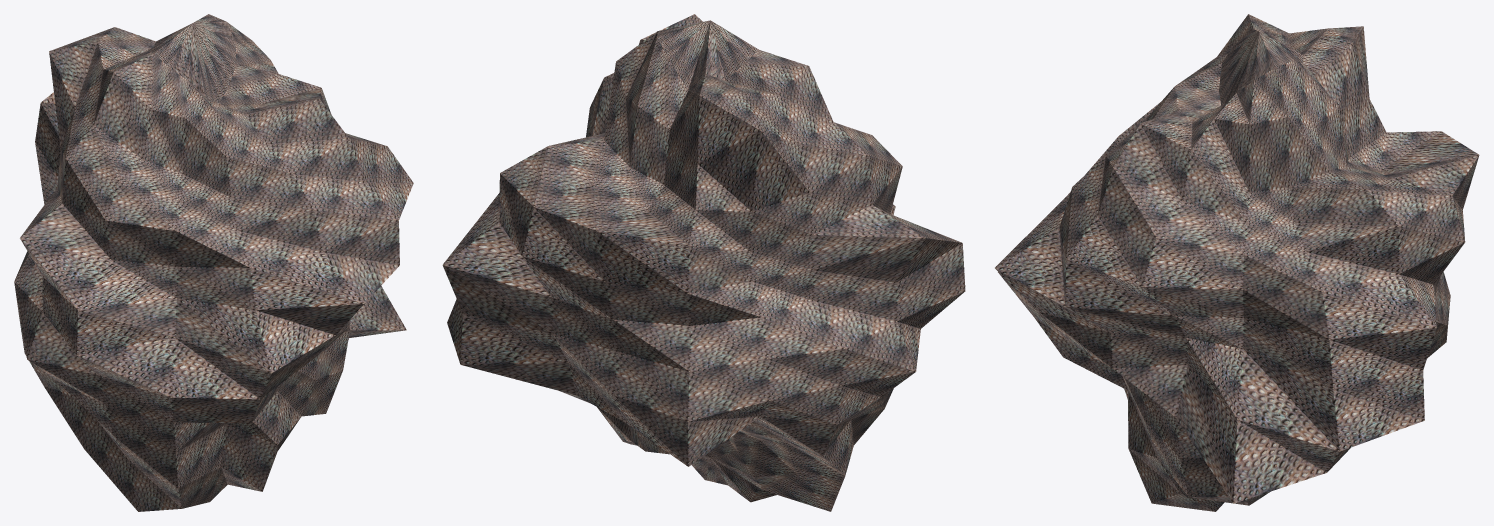
File: coral004a.obj
3 renders of one model, left to right at view 1: azimuth 30°, elevation 25°; view 2: azimuth 150°, elevation 25°; view 3: azimuth 270°, elevation 25°, orthographic. The views are drawn at different scales.
Parts seen in each view (by area): view 1: Landscape; view 2: Landscape; view 3: Landscape.
Boxes of the visible parts, left/top/right/bottom form: Landscape: left=14, top=14, right=413, bottom=511; Landscape: left=442, top=14, right=965, bottom=511; Landscape: left=995, top=14, right=1479, bottom=511.
Bounding box in the file's own units: 6.73 × 7.59 × 6.89.
Materials: 1 (1 with a texture image).
